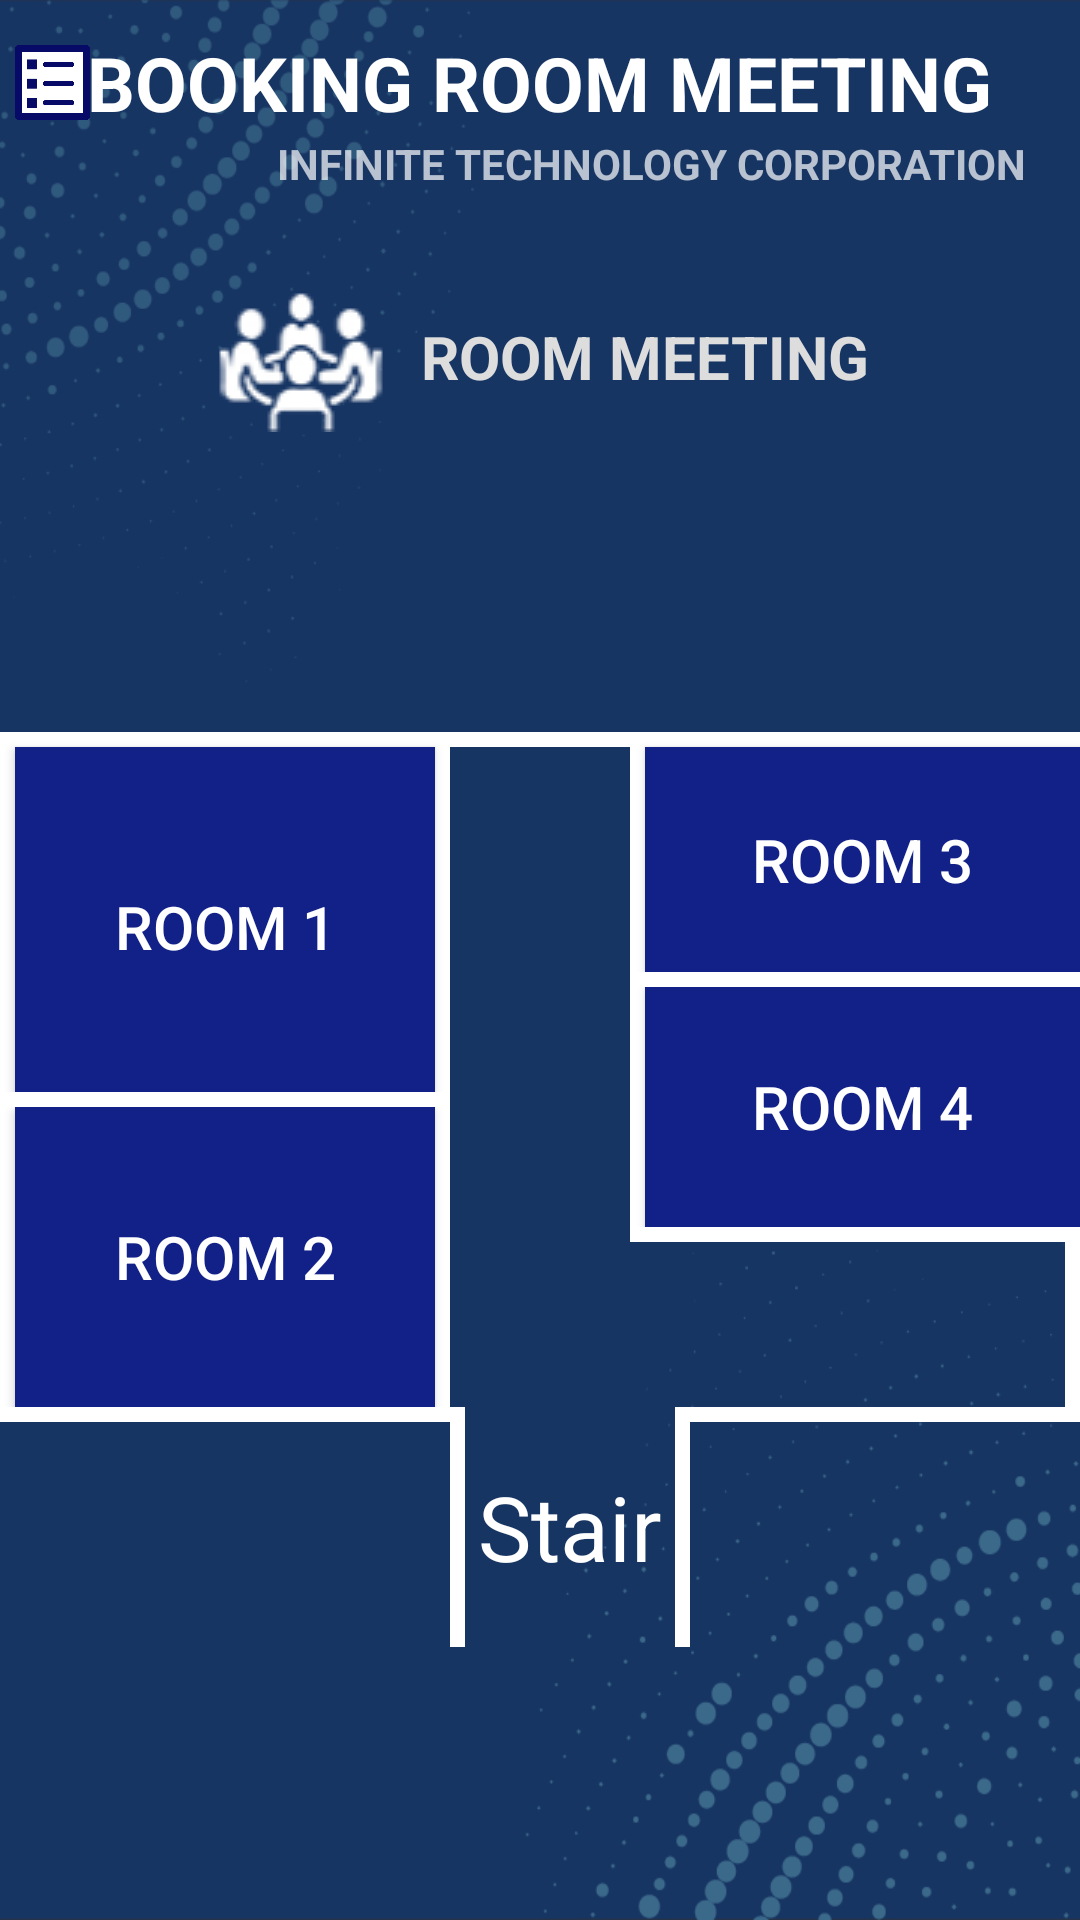

Icon bounding boxes for this 1080×1920 phone screenshot, format bbox(x1, y1, x2, y2):
detail: bbox(15, 45, 90, 120)
